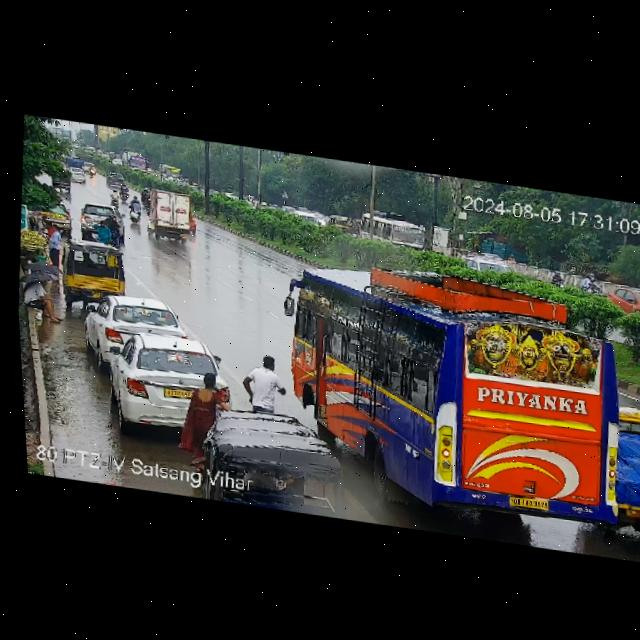bus: (264, 233, 640, 542), (356, 210, 429, 255), (122, 150, 148, 172), (159, 161, 182, 179)
car: (110, 328, 234, 435), (81, 289, 183, 366), (58, 240, 135, 319), (80, 202, 133, 241), (66, 166, 86, 184), (329, 215, 346, 231), (83, 163, 91, 173)
motorcycle: (104, 212, 125, 247), (127, 195, 143, 229), (137, 187, 153, 208), (116, 182, 130, 202), (109, 188, 121, 207), (86, 163, 96, 178)
person: (179, 365, 231, 464), (17, 263, 71, 326), (240, 352, 286, 420), (42, 221, 67, 267), (89, 219, 119, 245)
truck: (144, 186, 193, 242)
